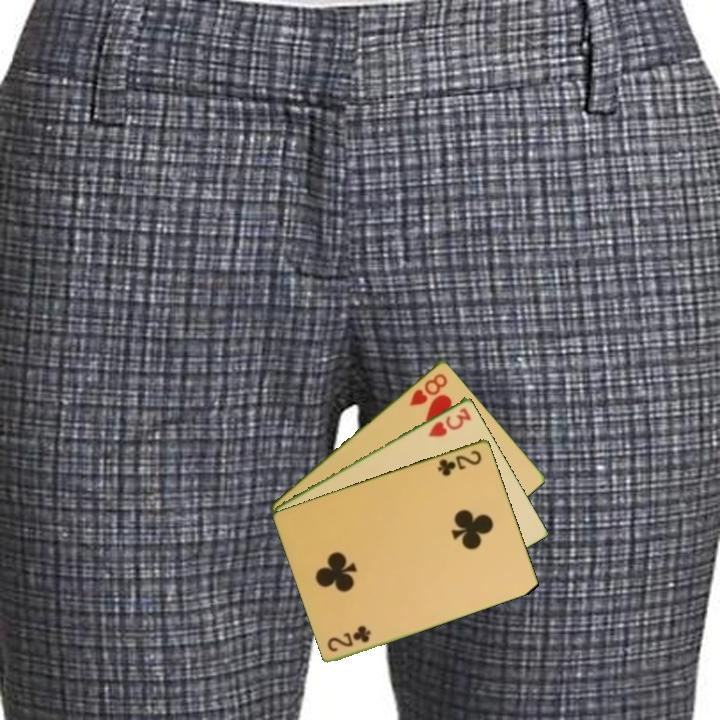2c: (434, 446, 485, 479), (324, 623, 374, 654)
3h: (425, 404, 474, 440)
8h: (406, 369, 450, 409)
